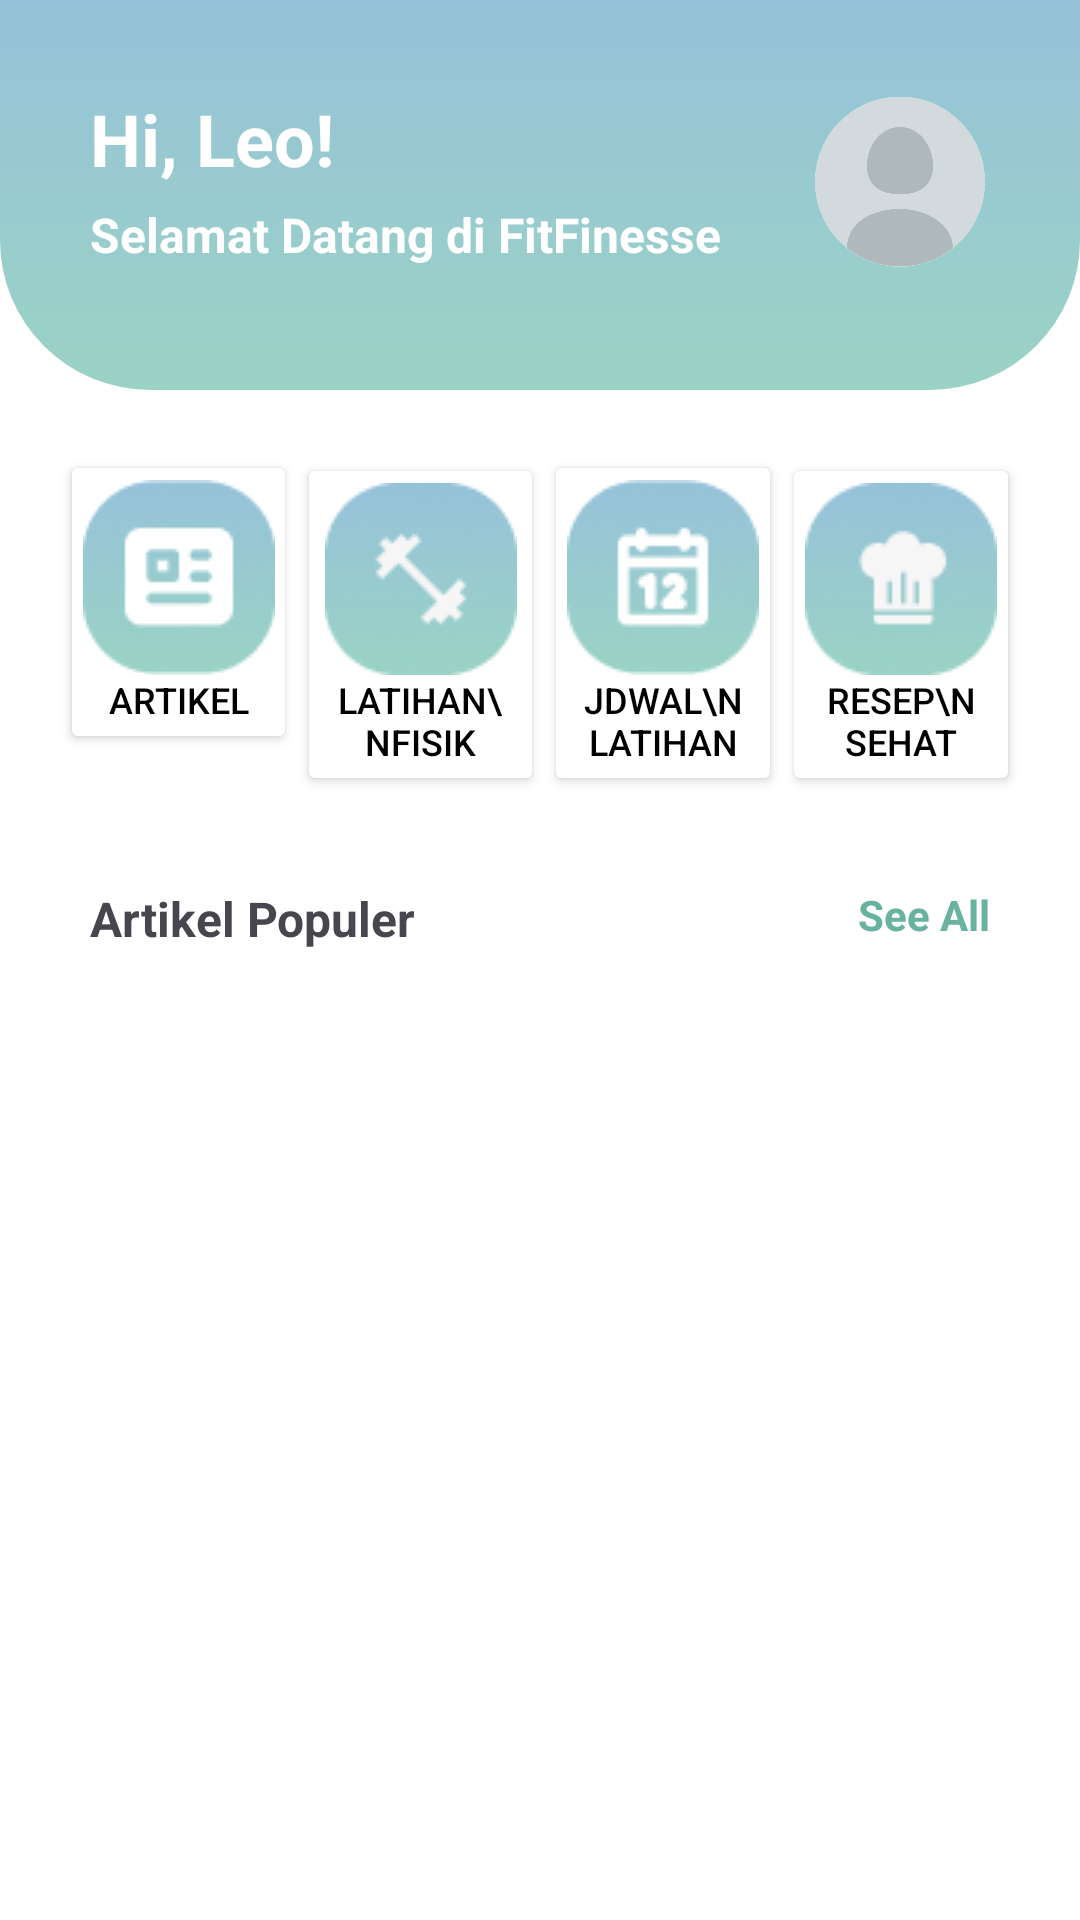

Icons on this 1080*1920 Android screen, each with its box as (x1=x1, y1=y1, x2=x2, y2=y2):
profile picture: (x1=815, y1=97, x2=985, y2=267)
